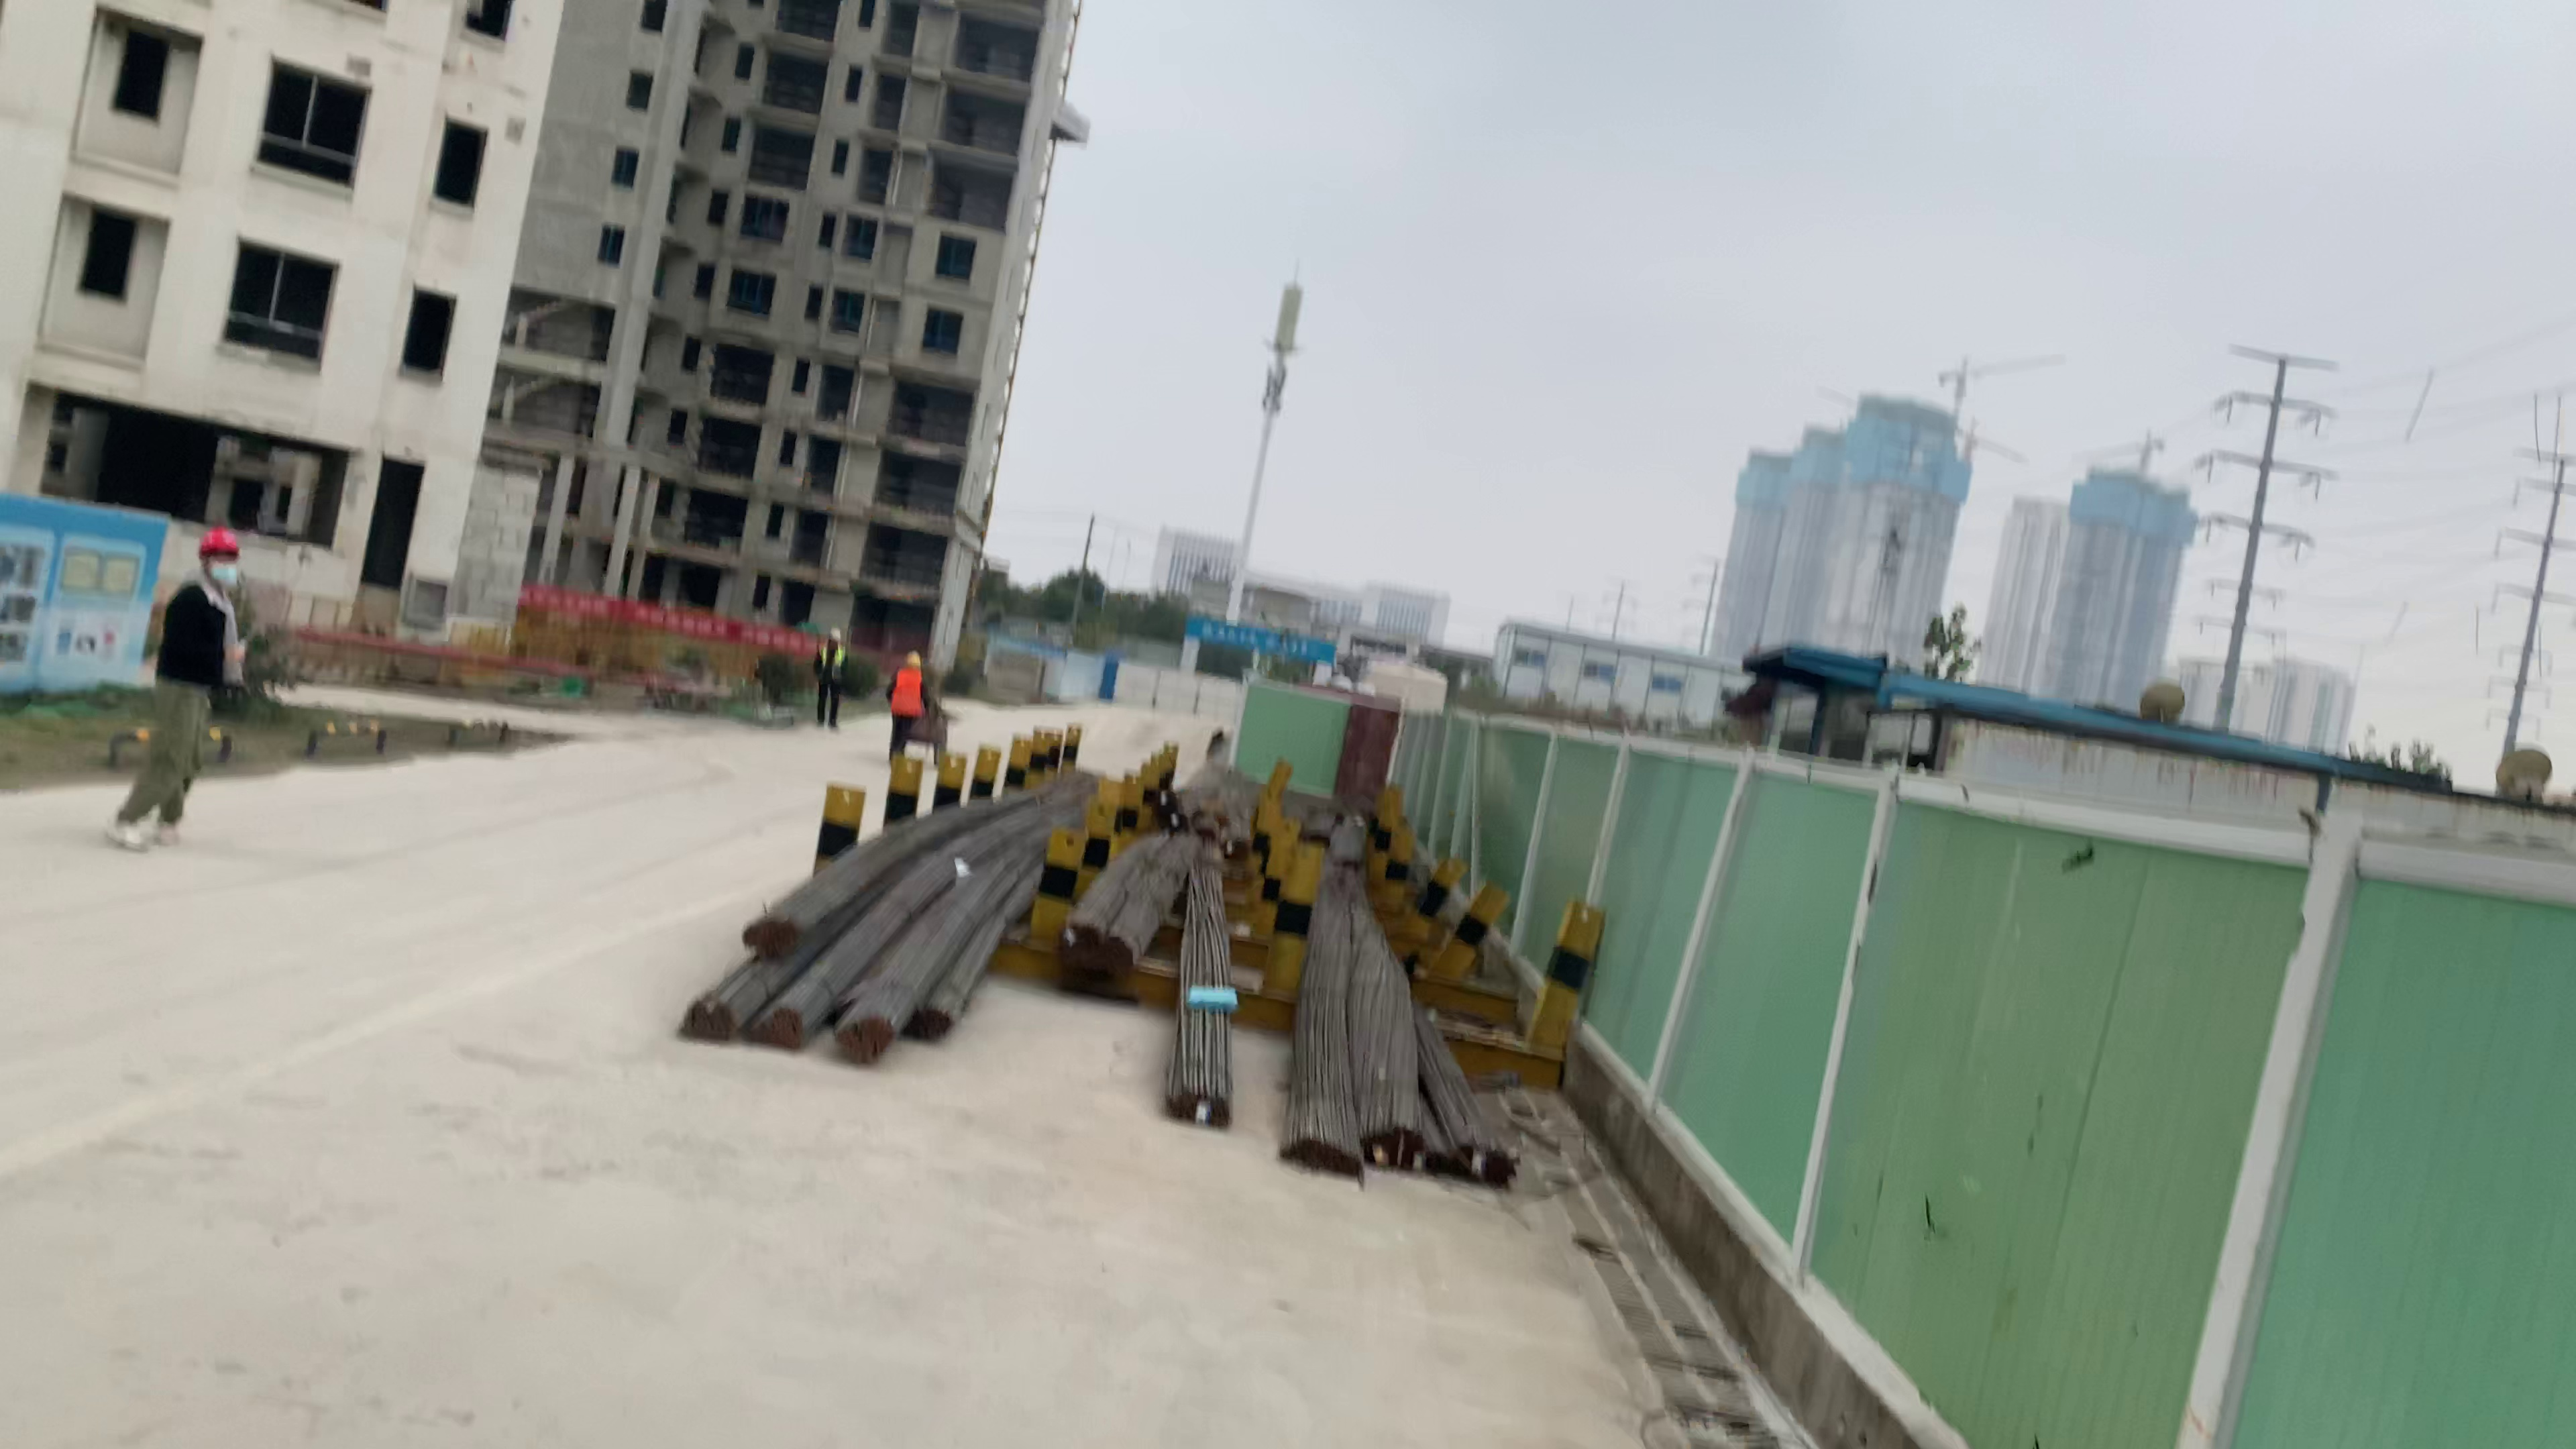rebar: (1159, 1072, 1235, 1132), (1279, 1132, 1364, 1184), (1430, 1138, 1516, 1187), (830, 1014, 892, 1063), (740, 913, 809, 957), (1364, 1122, 1424, 1171), (747, 1008, 807, 1051), (683, 998, 729, 1046), (1060, 918, 1099, 970), (1102, 927, 1138, 980), (908, 1003, 948, 1042)
